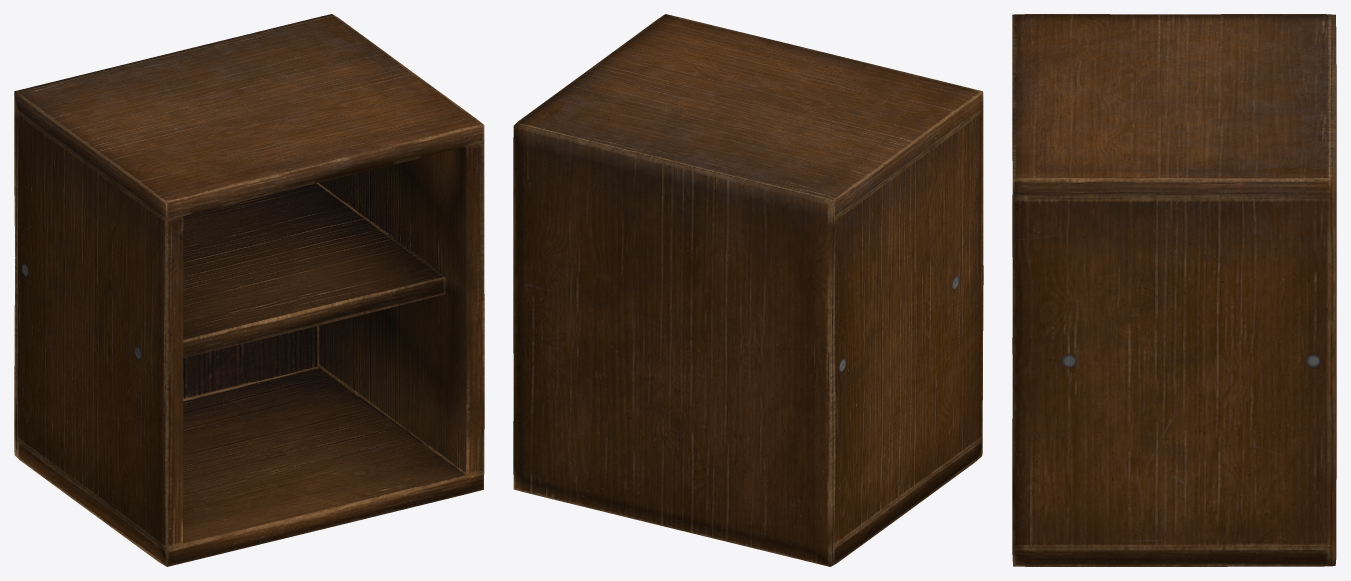
The model's file is small_wooden_cabinet.glb.
The picture shows the model from 3 angles, left to right: view 1: azimuth 30°, elevation 25°; view 2: azimuth 150°, elevation 25°; view 3: azimuth 270°, elevation 25°; orthographic projection. The views are drawn at different scales.
Parts seen in each view (by area): view 1: Object_2; view 2: Object_2; view 3: Object_2.
Part boxes in pixels (bbox=[...]): Object_2: bbox=[14, 14, 484, 566]; Object_2: bbox=[513, 14, 983, 566]; Object_2: bbox=[1012, 14, 1336, 566].
Size of the model in its own units: 16.1 by 17.67 by 13.35.
1 material, 1 textured.
